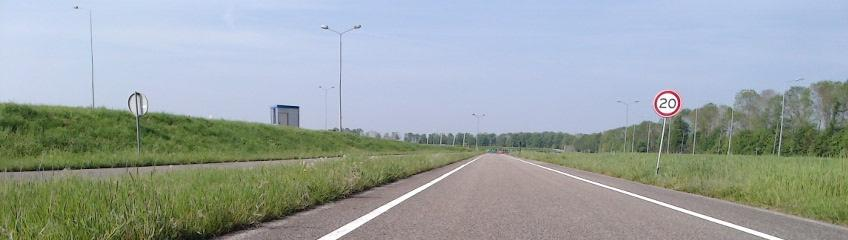Speed-limit-20km-h-: (654, 91, 680, 116)
